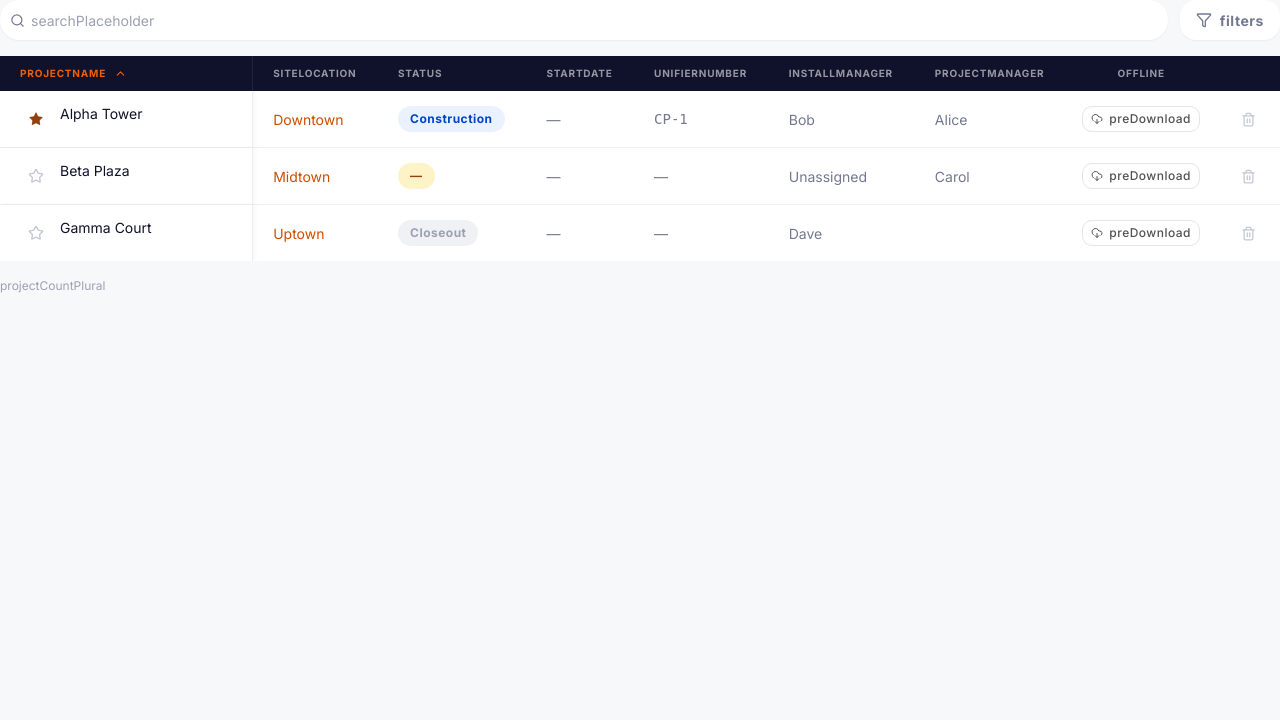
Test: ProjectsTable › opens the delete confirmation modal when the trash button is clicked
Click the button named "Delete Alpha Tower" at (1248, 119), box [1232,103,1264,135]
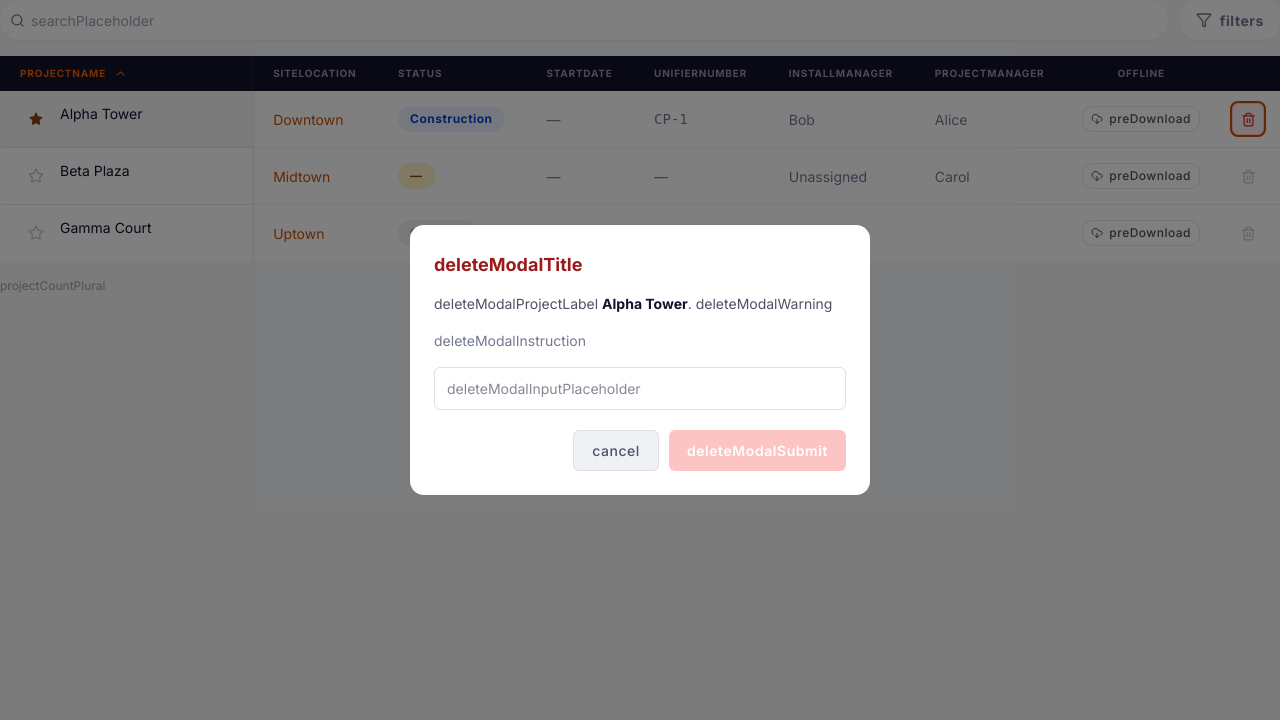
Expected: the dialog is shown
Expected: the text "Alpha Tower" is shown, [602,295,688,312]
